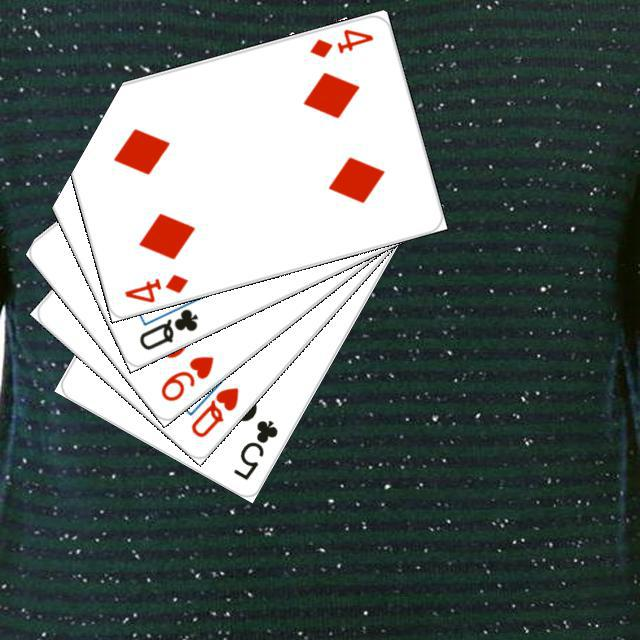4d: (304, 24, 376, 60), (119, 269, 190, 304)
5c: (228, 415, 280, 482)
9h: (155, 350, 216, 404)
Qc: (134, 293, 200, 352)
Qh: (186, 381, 241, 440)
